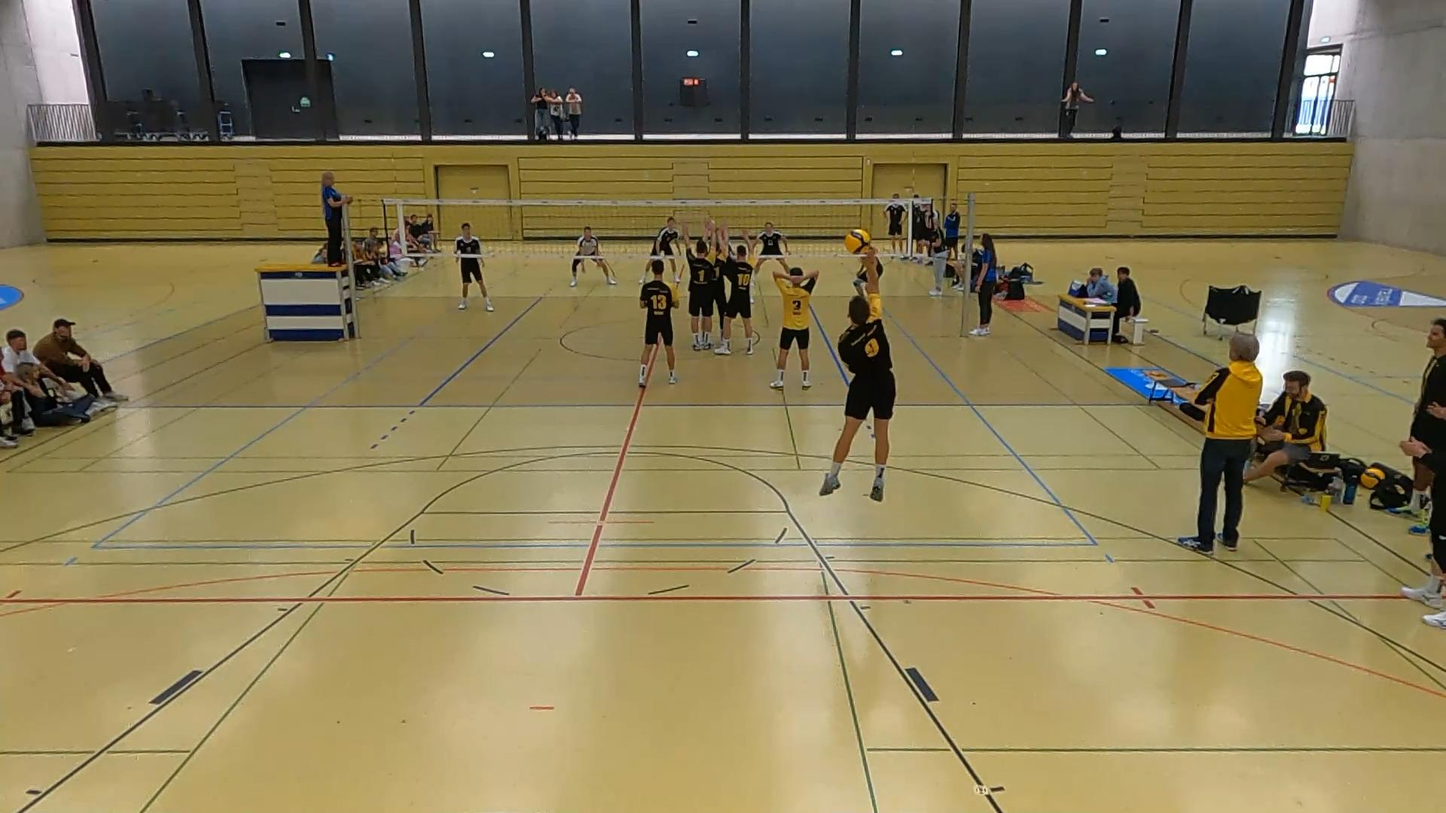battuta: (801, 260, 912, 504)
